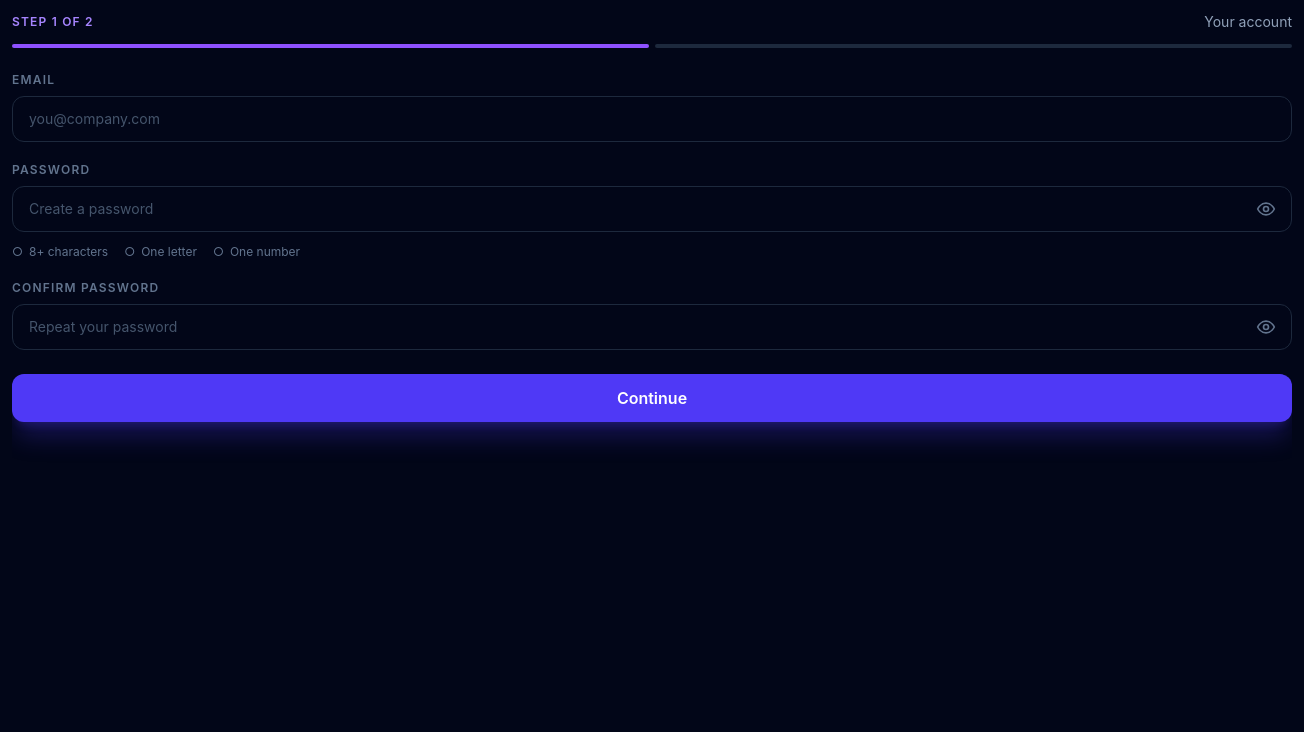
Test: SignupForm account step › blocks Continue and shows one error per field when empty
This screenshot has width=1304, height=732.
Click the button "Continue": [652, 398] box [12,374,1292,422]
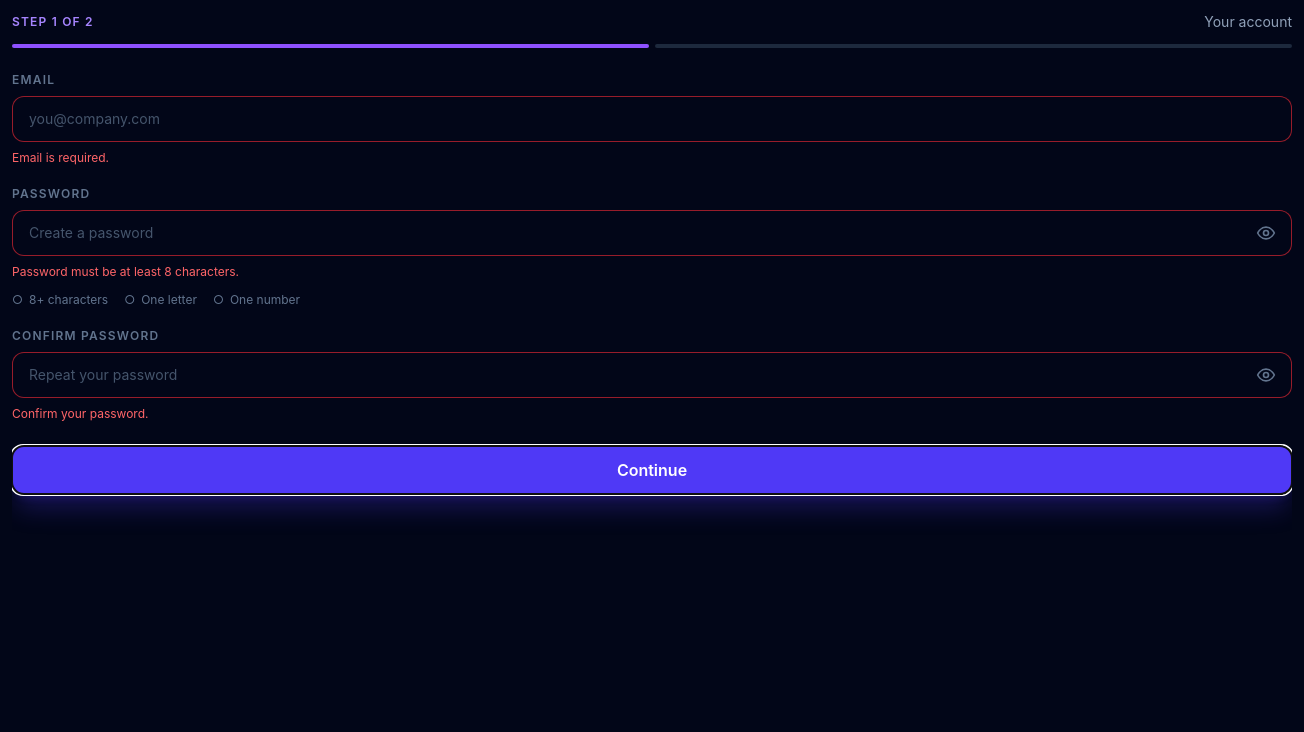
expect the text "Email is required." is shown: met, box [12,150,109,165]
expect the text "Password must be at least 8 characters." is shown: met, box [12,264,239,279]
expect the text "Confirm your password." is shown: met, box [12,406,148,421]
